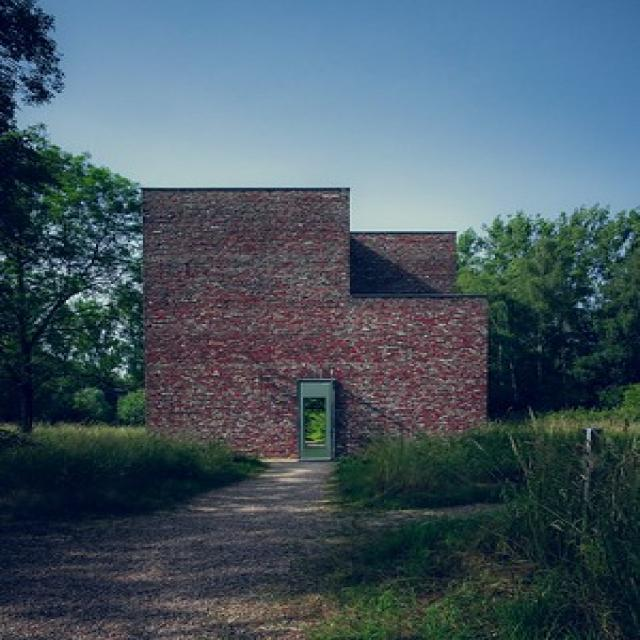building: (134, 182, 500, 468)
